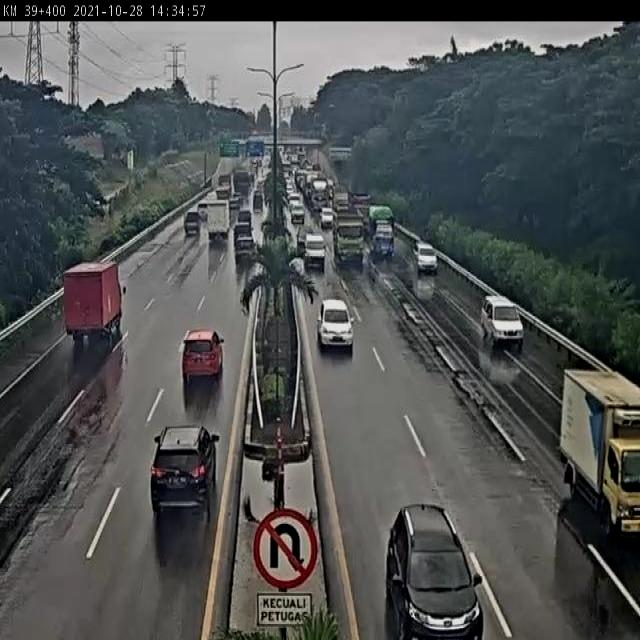Car: (386, 503, 482, 637), (150, 425, 220, 523), (480, 294, 525, 350), (182, 328, 225, 381), (316, 297, 353, 351), (304, 233, 326, 270), (414, 242, 438, 273), (234, 226, 254, 256), (184, 209, 201, 236), (289, 200, 305, 224), (320, 207, 334, 230), (237, 208, 252, 228), (198, 201, 208, 221)
Truck: (559, 369, 640, 532), (61, 260, 125, 343), (206, 200, 230, 237)
